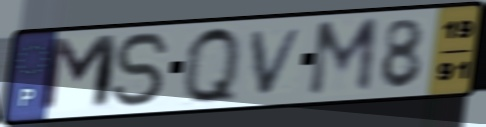8: (380, 17, 428, 91)
M: (37, 32, 122, 116), (304, 15, 382, 100)
Q: (182, 23, 242, 107)
S: (110, 29, 175, 110)
V: (248, 25, 309, 98)
